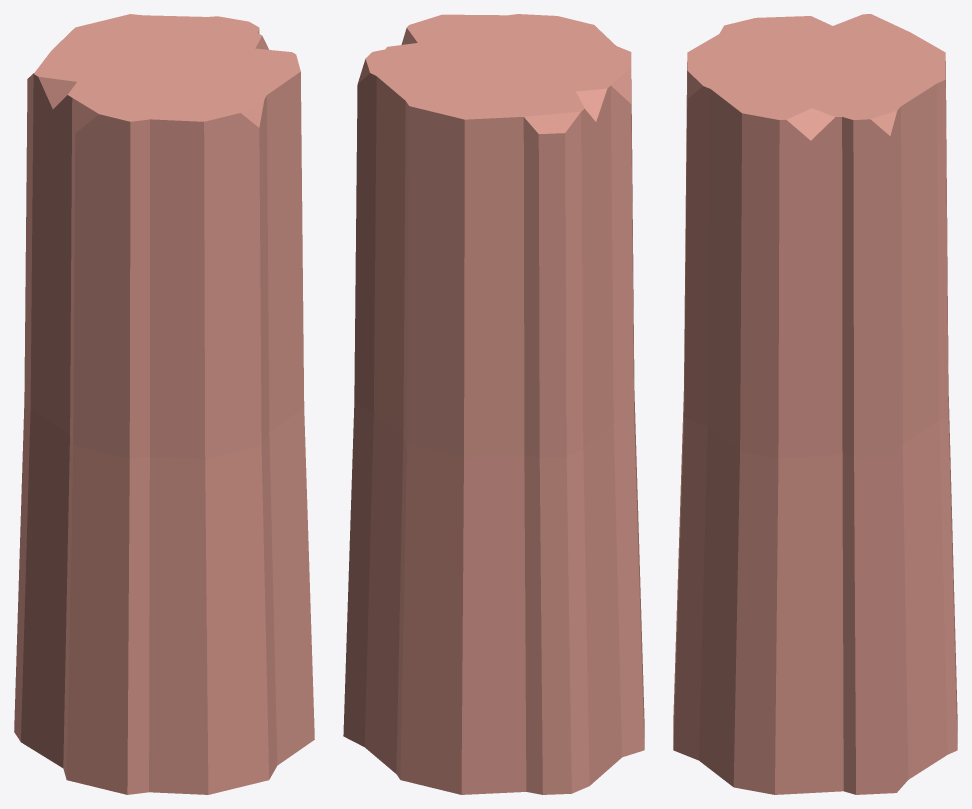
File: SuperGrid_Hexagon_021_Vlad.fbx
3 renders of one model, left to right at view 1: azimuth 30°, elevation 25°; view 2: azimuth 150°, elevation 25°; view 3: azimuth 270°, elevation 25°, orthographic.
Parts seen in each view (by area): view 1: SuperGrid_Hexagon.021; view 2: SuperGrid_Hexagon.021; view 3: SuperGrid_Hexagon.021.
Part boxes in pixels (x1=…): SuperGrid_Hexagon.021: x1=14, y1=14, x2=314, y2=794; SuperGrid_Hexagon.021: x1=343, y1=14, x2=644, y2=794; SuperGrid_Hexagon.021: x1=673, y1=14, x2=957, y2=794.
Bounding box in the file's own units: 19053 × 50000 × 19250.
